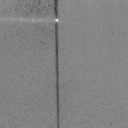surface scratch: (54, 22, 60, 128), (54, 0, 58, 18), (24, 12, 30, 17)
